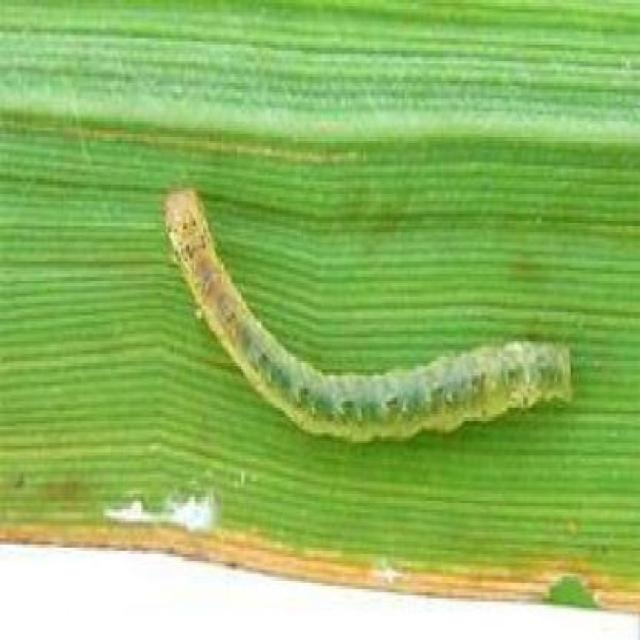leaf-folder: (144, 154, 587, 466)
